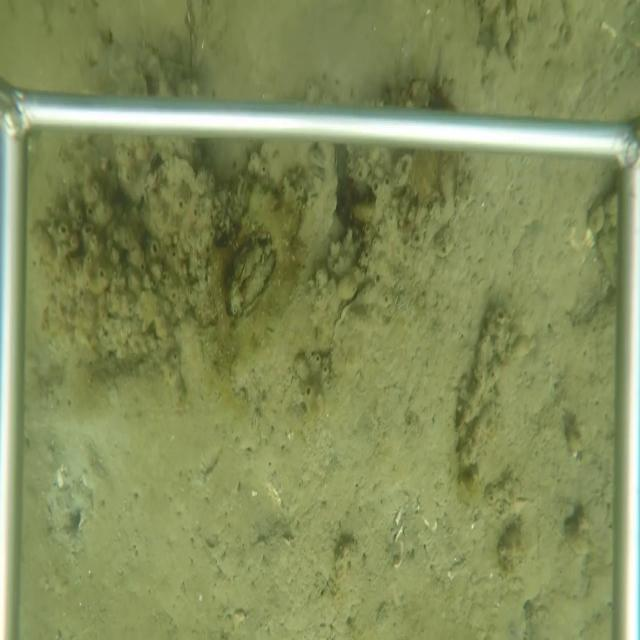Oyster-Closed: (260, 142, 341, 265), (328, 277, 393, 398)
